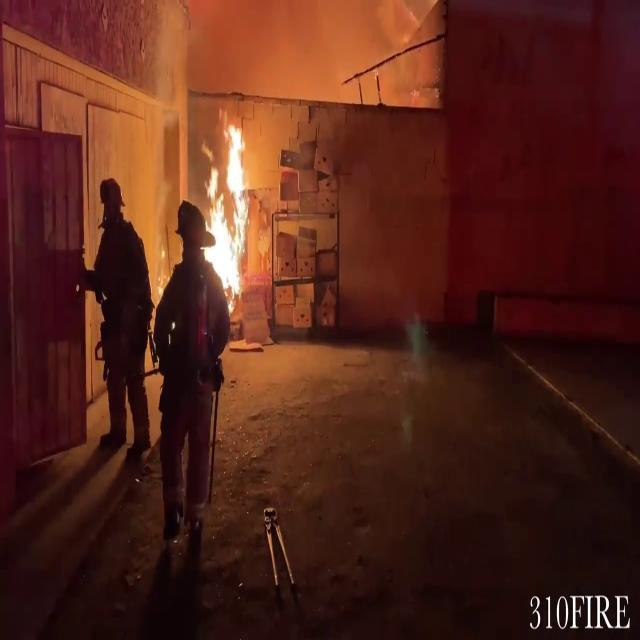Fire: (200, 115, 256, 302)
